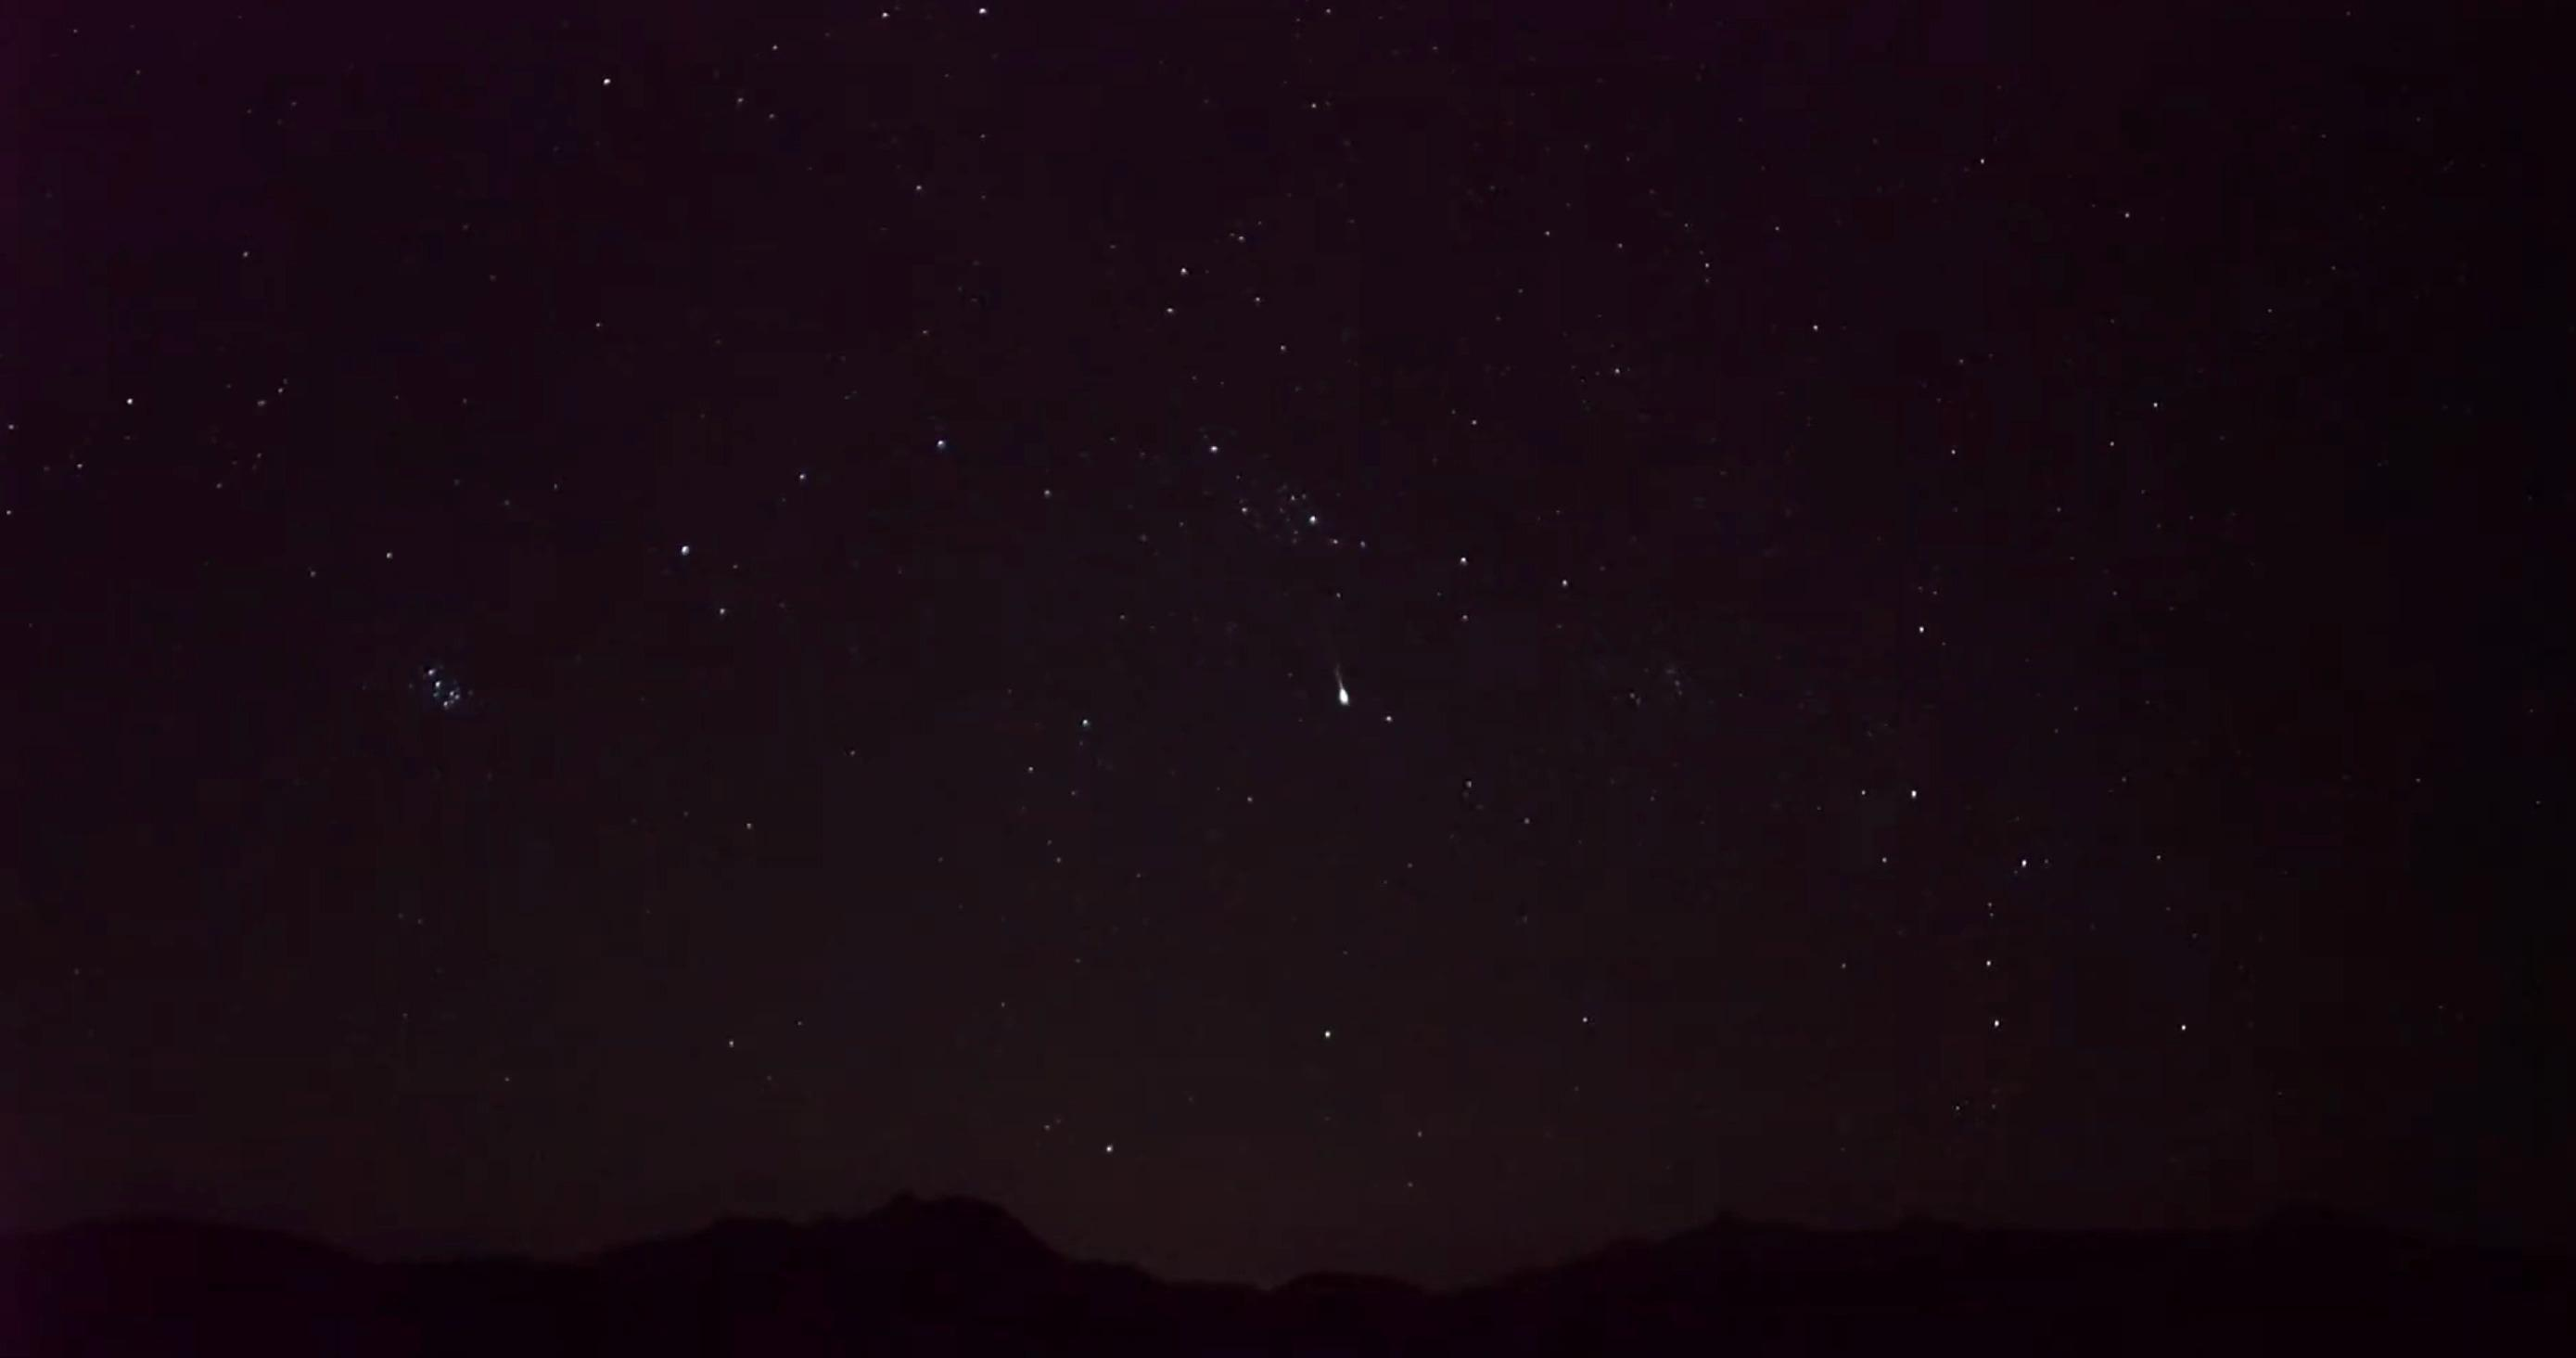meteorite: (1290, 651, 1390, 719)
